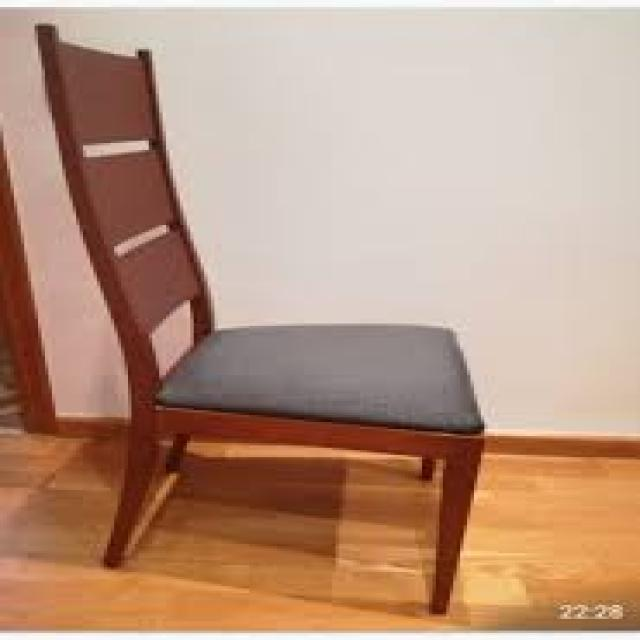bottle: (29, 22, 503, 620)
